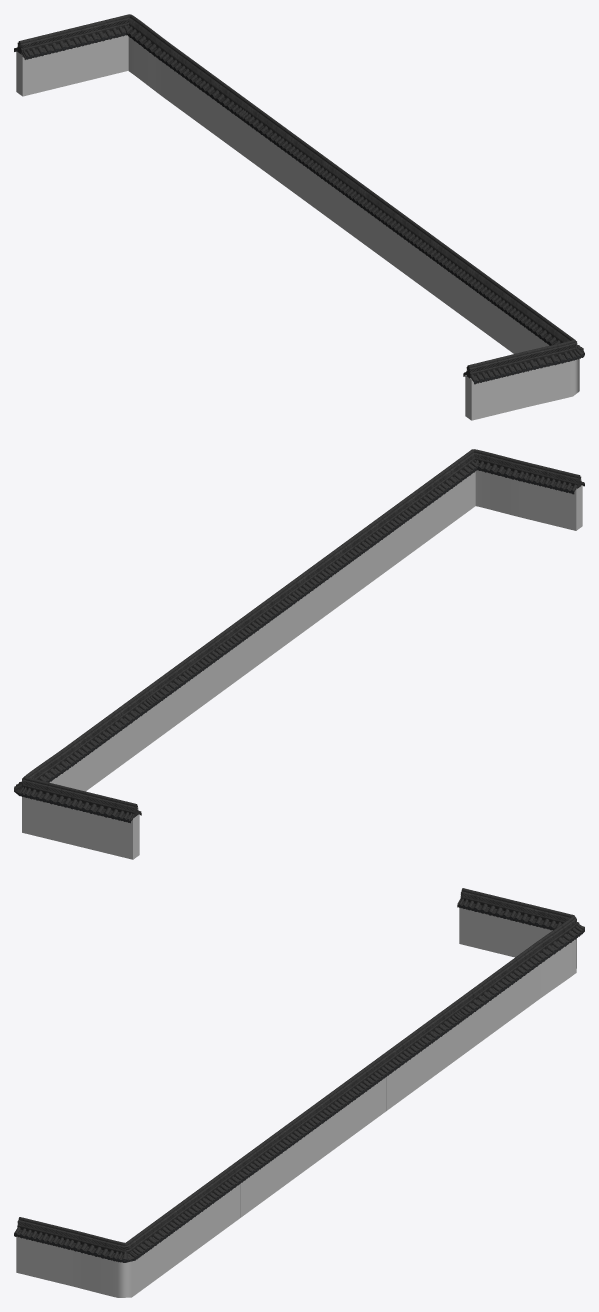
File: SM_JSH_HG_StoneWallH_Splines_28.fbx
3 views of the same model, one above another, from view 1: azimuth 30°, elevation 25°; view 2: azimuth 150°, elevation 25°; view 3: azimuth 330°, elevation 25° (orthographic).
Parts seen in each view (by area): view 1: SM_JSH_HG_StoneWallH_Splines_28; view 2: SM_JSH_HG_StoneWallH_Splines_28; view 3: SM_JSH_HG_StoneWallH_Splines_28.
Part boxes in pixels (left/top/right/bottom): SM_JSH_HG_StoneWallH_Splines_28: left=14, top=14, right=584, bottom=420; SM_JSH_HG_StoneWallH_Splines_28: left=14, top=449, right=584, bottom=859; SM_JSH_HG_StoneWallH_Splines_28: left=14, top=888, right=584, bottom=1297.
Bounding box in the file's own units: 425 × 2779 × 178.
